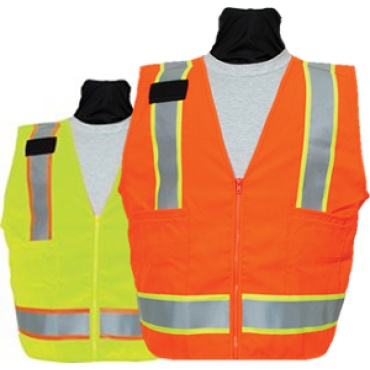safety vest: (126, 50, 354, 359), (6, 114, 147, 358)
